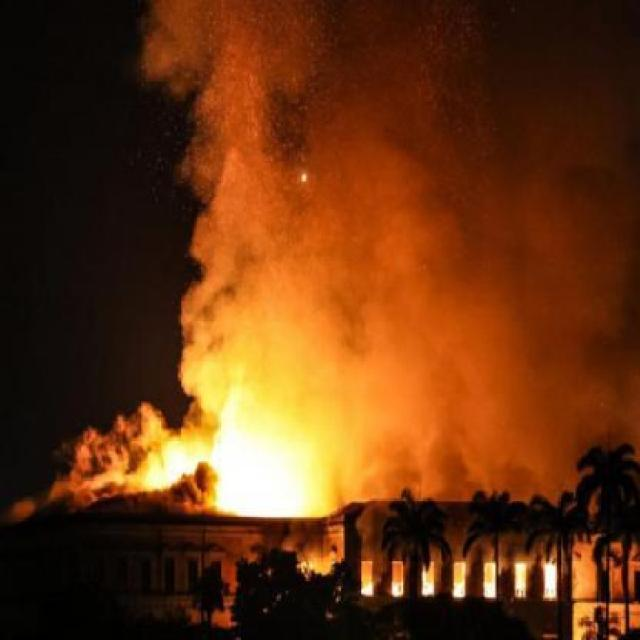Fire: (209, 370, 325, 521), (360, 560, 582, 598), (144, 418, 204, 494)
